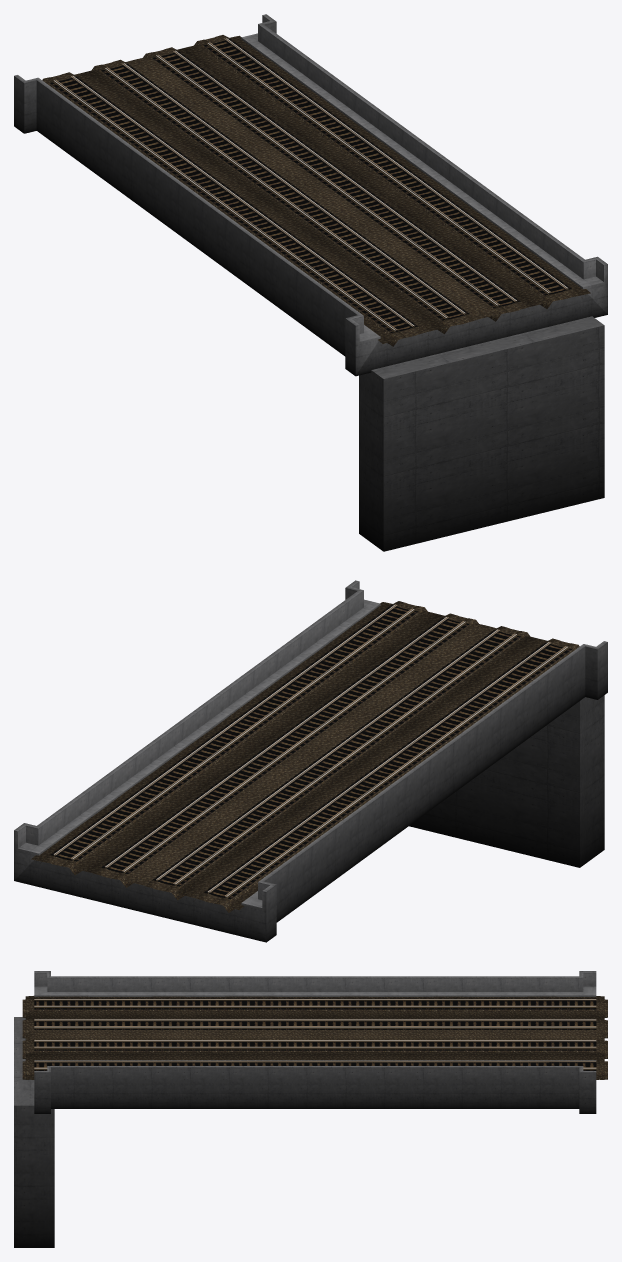
Rendered from KIN_4RAIL_150.glb.
3 renders of one model, top to bottom at view 1: azimuth 30°, elevation 25°; view 2: azimuth 150°, elevation 25°; view 3: azimuth 270°, elevation 25°, orthographic. The views are drawn at different scales.
Parts seen in each view (by area): view 1: Rail, obj2, RG_R, RG_L; view 2: Rail, obj2, RG_R, RG_L; view 3: Rail, obj2, RG_R, RG_L.
Part boxes in pixels (x1,y1,x2,y2): Rail: (14,14,607,376); obj2: (359,316,604,551); RG_R: (55,42,550,330); RG_L: (70,38,566,326); Rail: (14,580,607,942); obj2: (409,695,604,867); RG_R: (71,608,566,897); RG_L: (55,605,551,892); Rail: (22,971,607,1113); obj2: (14,1017,54,1247); RG_R: (34,999,596,1062); RG_L: (34,1005,596,1067).
Size of the model in its own units: 64 by 53.51 by 159.
9 materials, 8 textured.
